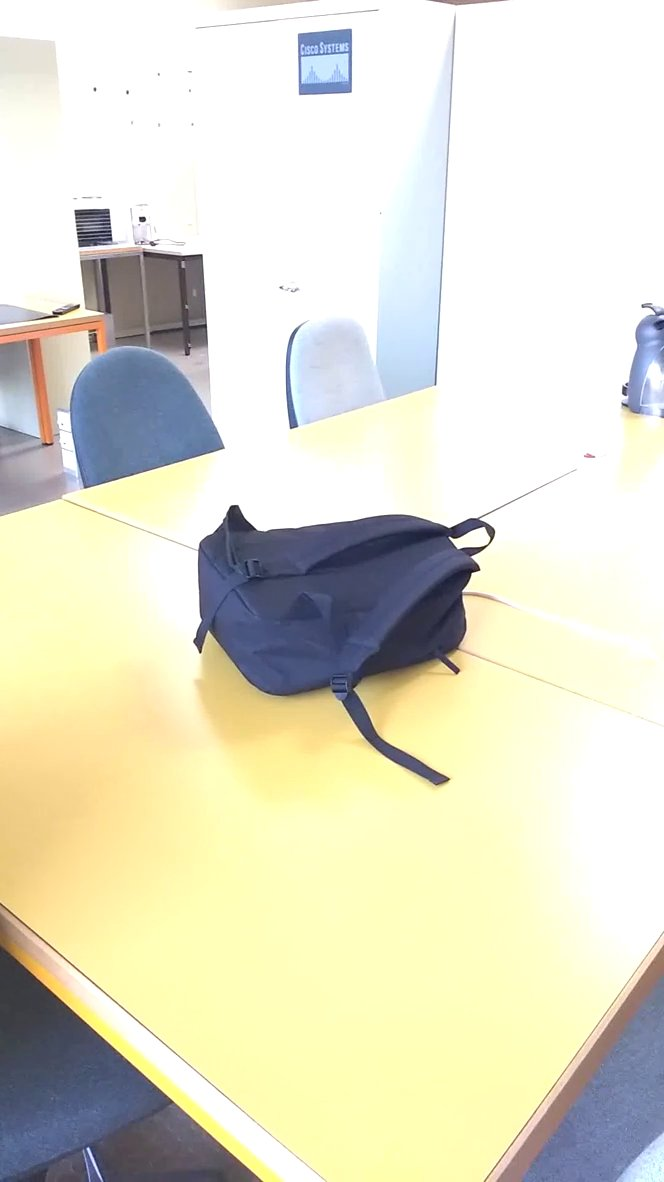bag: (132, 490, 514, 798)
chair: (59, 337, 246, 502), (271, 311, 405, 440)
